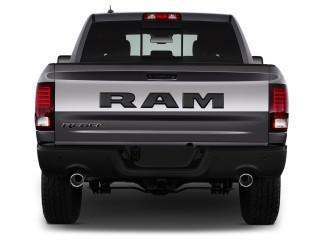ram: (88, 86, 232, 114)
